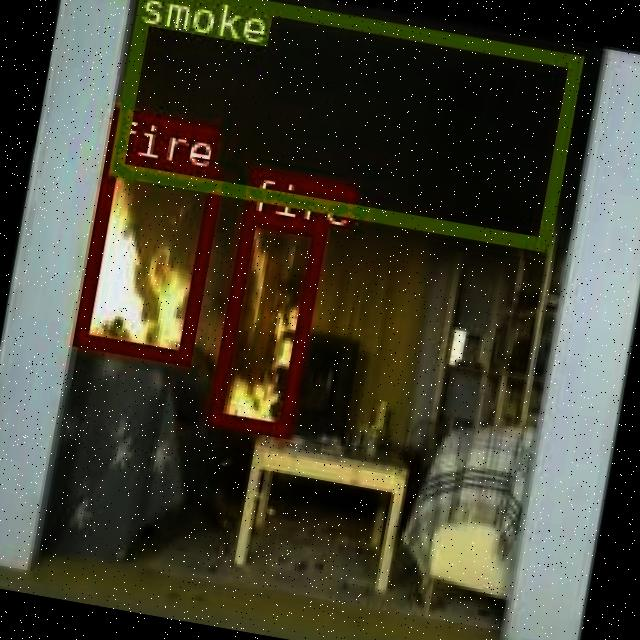fire: (71, 150, 220, 360), (204, 210, 325, 436)
smoke: (108, 0, 581, 247)
